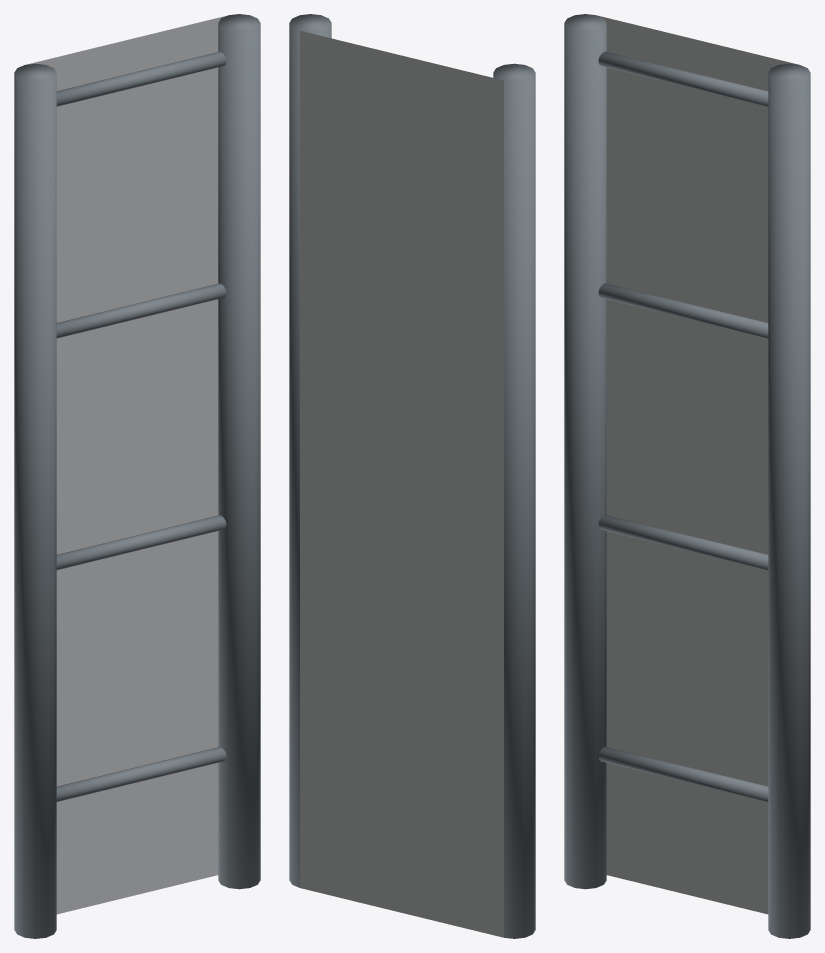
The model's file is WarehouseWallCutout.fbx.
3 renders of one model, left to right at view 1: azimuth 30°, elevation 25°; view 2: azimuth 150°, elevation 25°; view 3: azimuth 330°, elevation 25°, orthographic.
Visible parts, largest first — view 1: WarehouseWallCutout; view 2: WarehouseWallCutout; view 3: WarehouseWallCutout.
Part boxes in pixels (x1,y1,x2,y2): WarehouseWallCutout: (14,14,260,938); WarehouseWallCutout: (289,14,535,938); WarehouseWallCutout: (564,14,810,938).
Size of the model in its own units: 193 by 657 by 29.44.
1 material, 1 textured.
